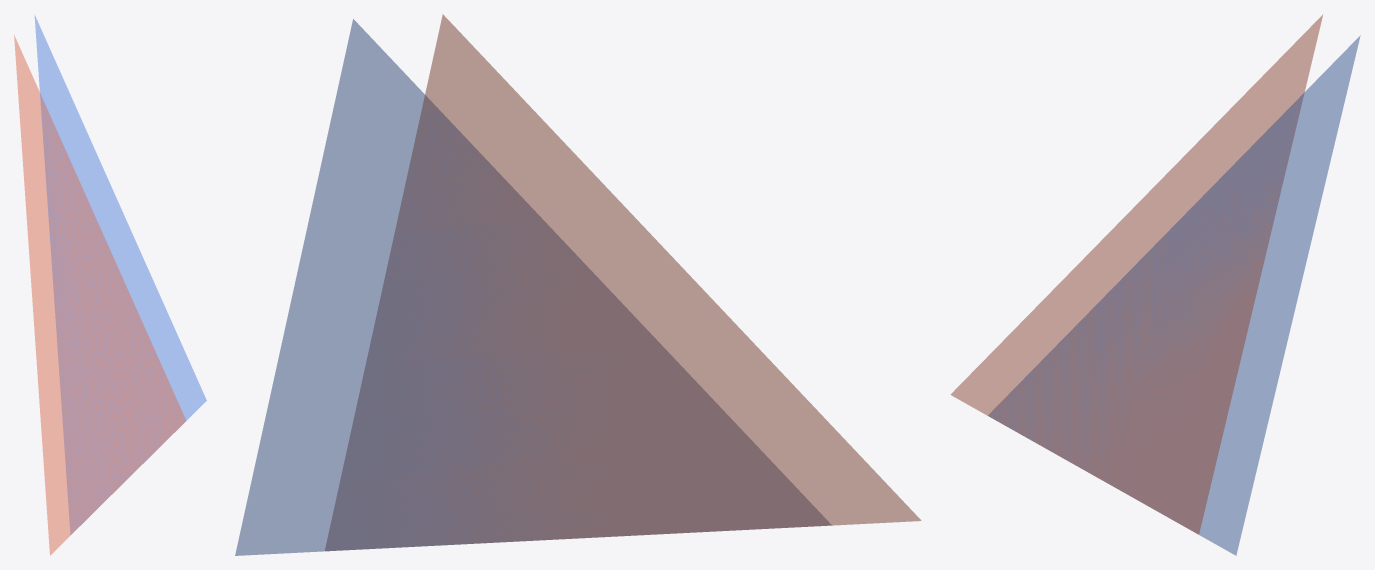
The model's file is transparent_parts.glb.
The picture shows the model from 3 angles, left to right: view 1: azimuth 30°, elevation 25°; view 2: azimuth 150°, elevation 25°; view 3: azimuth 270°, elevation 25°; orthographic projection. The views are drawn at different scales.
Visible parts, largest first — view 1: TiltedTriangle; view 2: TiltedTriangle; view 3: TiltedTriangle.
Part boxes in pixels (bbox=[...]): TiltedTriangle: bbox=[14, 15, 206, 555]; TiltedTriangle: bbox=[235, 14, 921, 555]; TiltedTriangle: bbox=[950, 15, 1360, 555].
Bounding box in the file's own units: 0.368 × 0.48 × 0.396.
